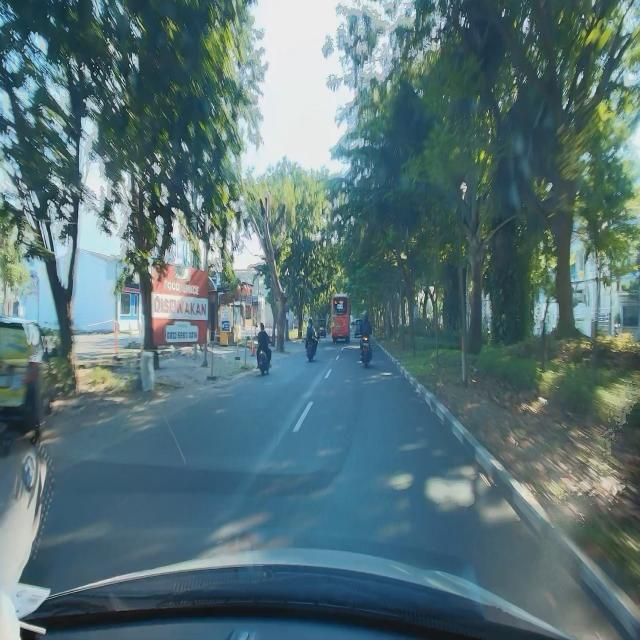bus: (331, 292, 351, 343)
